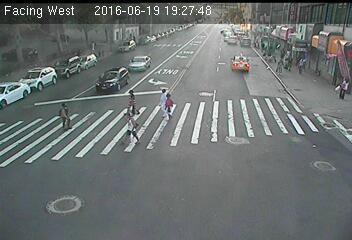neg: (8, 35, 39, 76), (239, 178, 269, 217), (226, 47, 253, 83), (53, 181, 80, 217), (136, 34, 163, 70), (269, 98, 295, 133), (78, 46, 104, 80), (18, 123, 42, 156), (298, 124, 322, 156), (150, 173, 169, 198), (193, 36, 212, 61), (192, 161, 210, 185), (225, 132, 242, 154)
pos: (151, 84, 180, 122), (52, 99, 79, 134), (119, 110, 144, 144), (326, 71, 349, 102), (124, 83, 145, 111), (296, 54, 310, 73)
